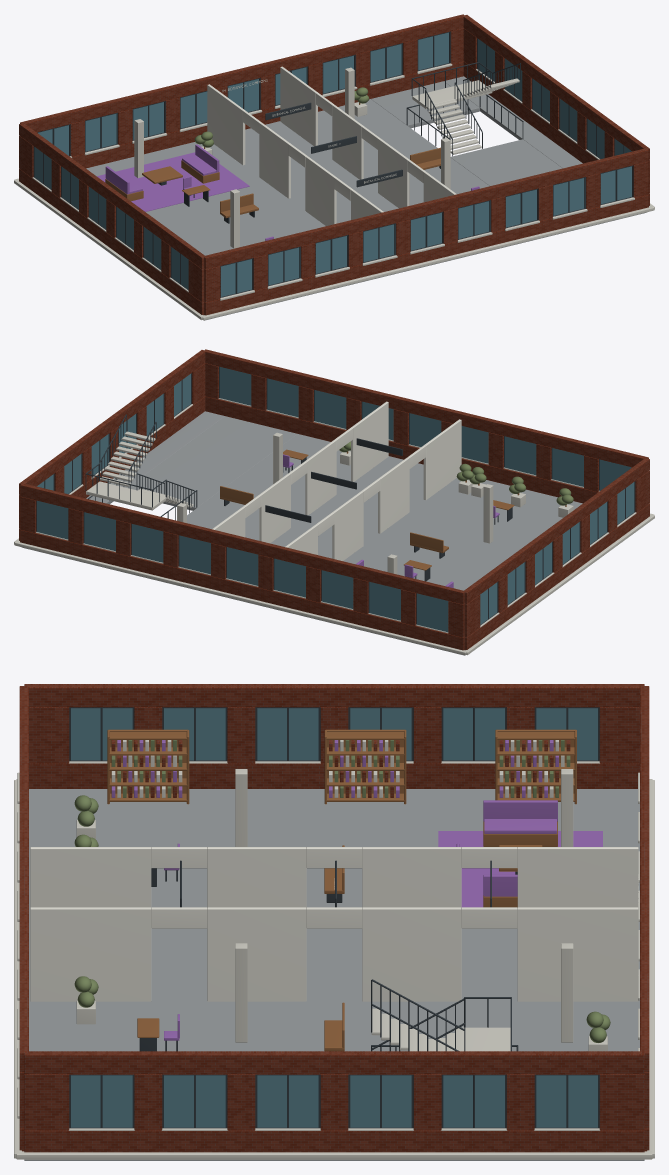
Rendered from SM_LegacyTower_Level03.fbx.
3 views of the same model, one above another, from view 1: azimuth 30°, elevation 25°; view 2: azimuth 150°, elevation 25°; view 3: azimuth 270°, elevation 25° (orthographic). The views are drawn at different scales.
Visible parts, largest first — view 1: SM_LegacyTower_Level03; view 2: SM_LegacyTower_Level03; view 3: SM_LegacyTower_Level03.
Boxes of the visible parts, x1=… form: SM_LegacyTower_Level03: x1=14, y1=14, x2=654, y2=320; SM_LegacyTower_Level03: x1=14, y1=349, x2=654, y2=655; SM_LegacyTower_Level03: x1=14, y1=684, x2=654, y2=1160.
Size of what is drawn, in the model's own units: 2866 by 2066 by 486.
